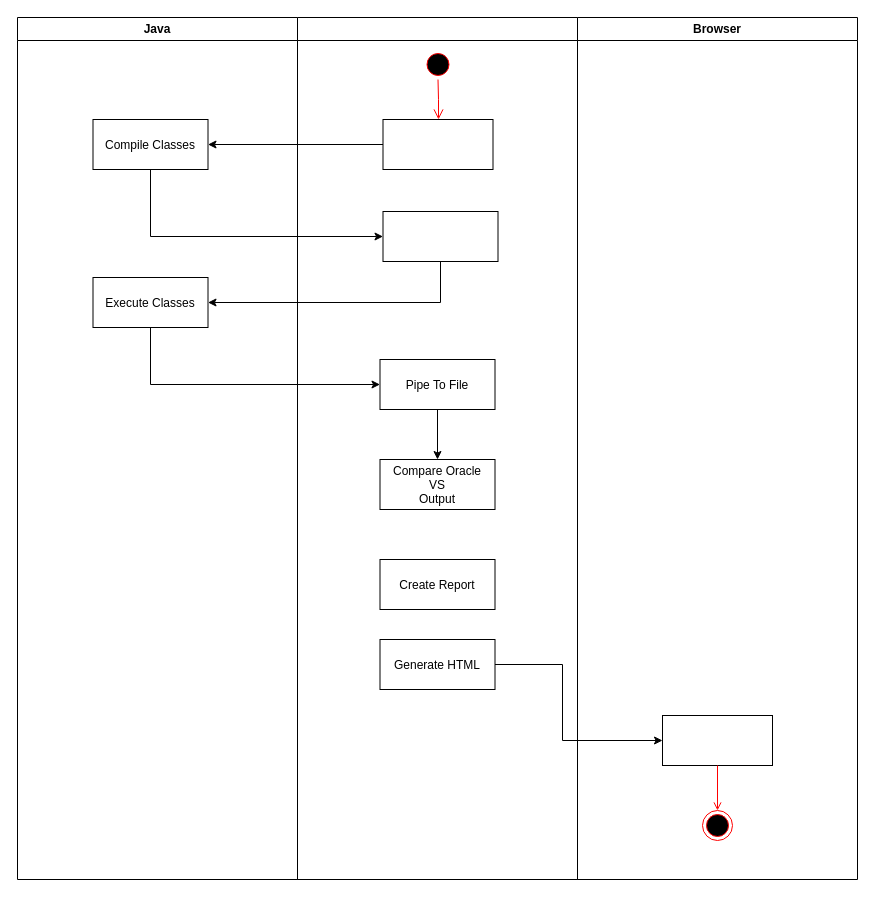
This 875x897 diagram has some shape labels left out. The shapes that lost their labels are listed below. From the top down, each one's box as (x1, y1, x2, y2) in pixels, then its label:
(382, 118, 493, 170): Wipe Old Data
(382, 210, 498, 262): Generate Oracles and Input
(296, 16, 578, 880): Batch Script
(662, 714, 772, 766): Display HTML
